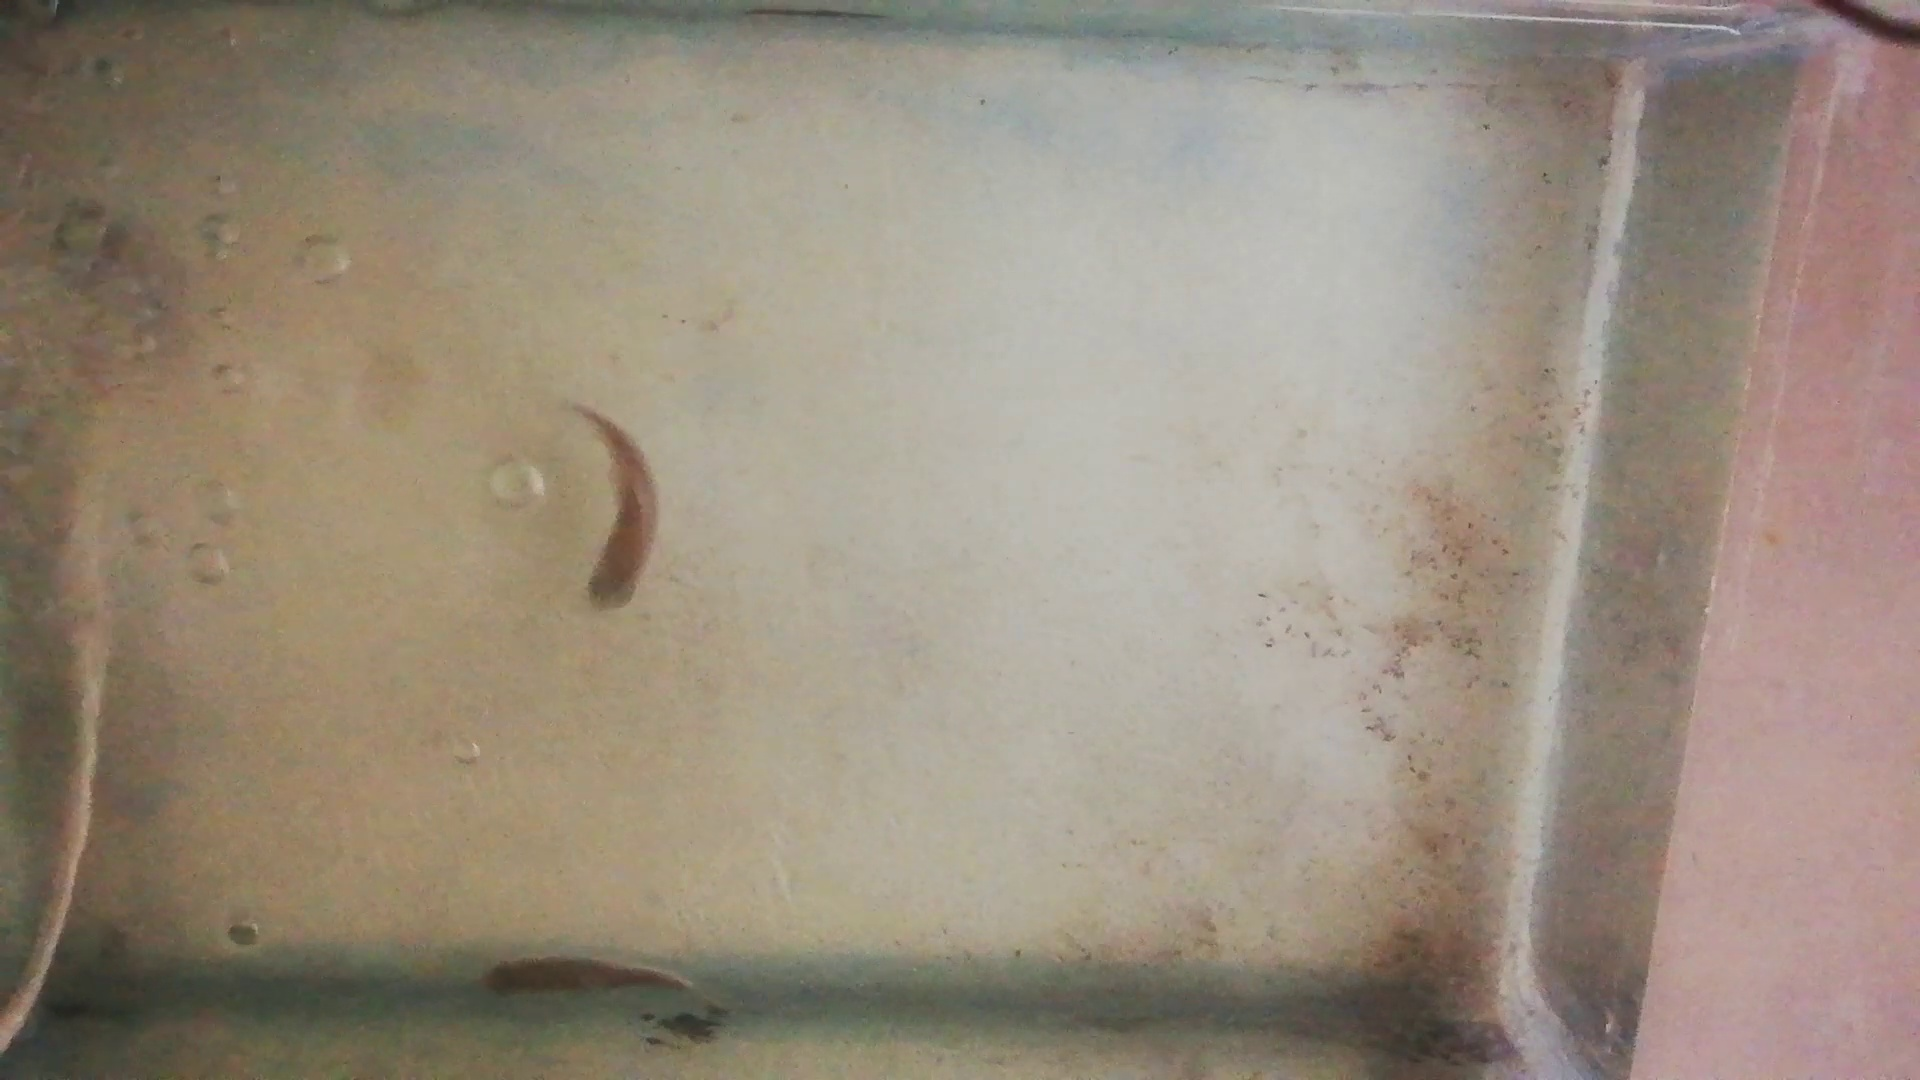fish: (572, 404, 659, 615), (483, 957, 695, 1000)
